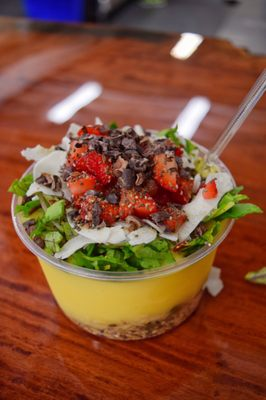sushi: (9, 109, 248, 341)
